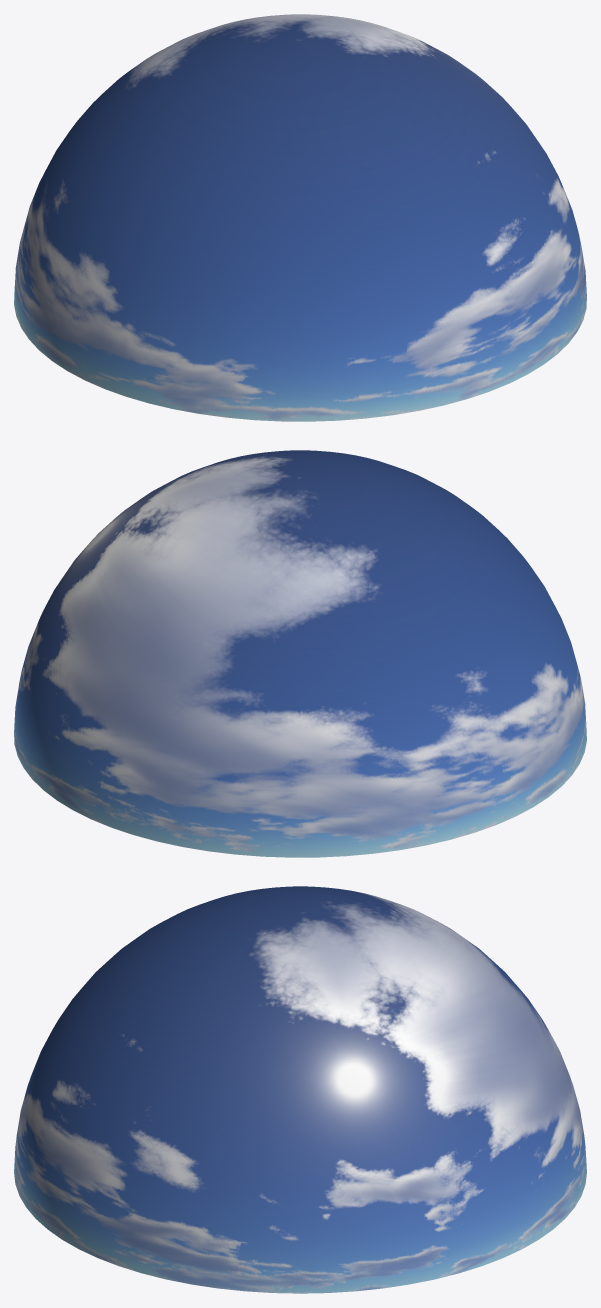
File: skyDome.obj
3 renders of one model, top to bottom at view 1: azimuth 30°, elevation 25°; view 2: azimuth 150°, elevation 25°; view 3: azimuth 270°, elevation 25°, orthographic.
Parts seen in each view (by area): view 1: Sphere; view 2: Sphere; view 3: Sphere.
Part boxes in pixels (x1,y1,x2,y2): Sphere: (14,14,586,421); Sphere: (14,450,586,857); Sphere: (14,886,586,1293).
Size of the model in its own units: 99.9 by 49.95 by 99.9.
